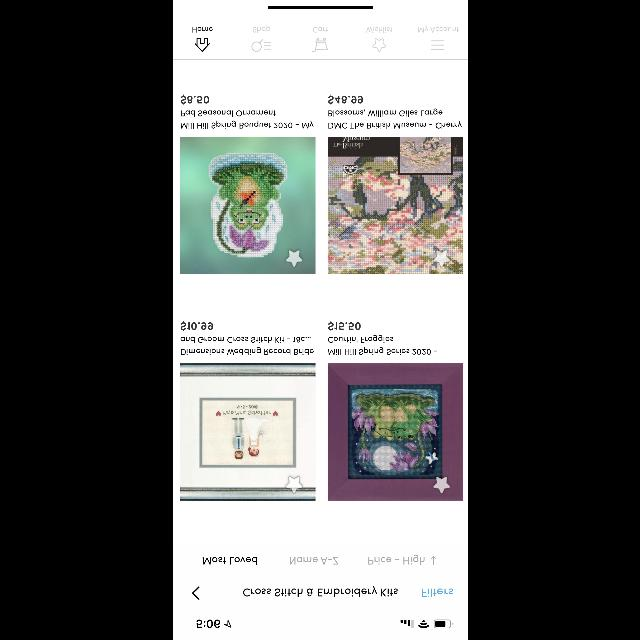icon: (432, 476, 450, 494), (286, 476, 302, 494), (433, 250, 449, 266), (286, 250, 302, 266), (251, 40, 271, 52), (311, 38, 327, 52), (372, 38, 386, 52), (194, 38, 208, 52), (431, 40, 444, 50), (192, 586, 198, 600), (431, 556, 435, 566)
image: (328, 136, 462, 274), (180, 136, 314, 274), (328, 364, 462, 501), (180, 364, 314, 501)
text: (328, 109, 462, 129), (180, 111, 312, 129), (180, 337, 312, 355), (328, 335, 437, 355), (242, 586, 398, 596), (368, 555, 424, 565), (328, 95, 362, 105), (202, 558, 256, 564), (328, 321, 360, 331), (180, 321, 212, 331), (422, 588, 452, 598), (290, 558, 338, 564), (180, 95, 208, 105), (418, 26, 458, 32), (366, 27, 392, 33), (252, 26, 270, 32), (192, 28, 212, 32), (312, 28, 328, 32)
uppertaskbar: (196, 620, 452, 628)
